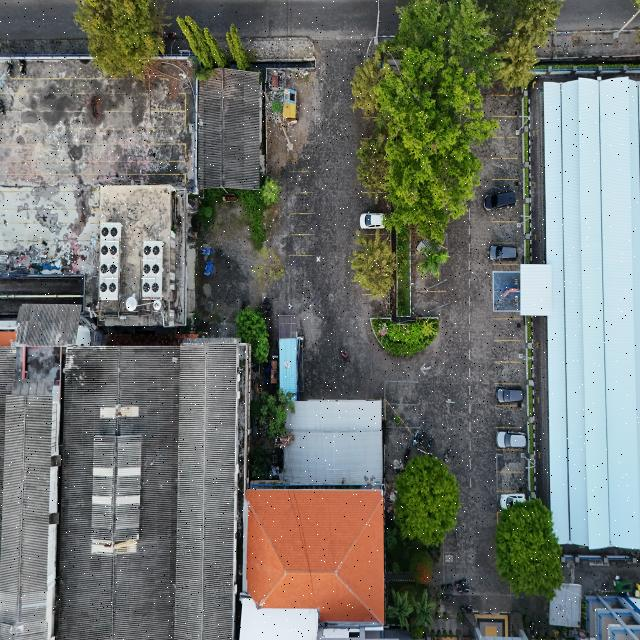Tree: (502, 500, 562, 600), (401, 450, 459, 548), (348, 227, 402, 304), (254, 382, 304, 447), (262, 180, 282, 212)
